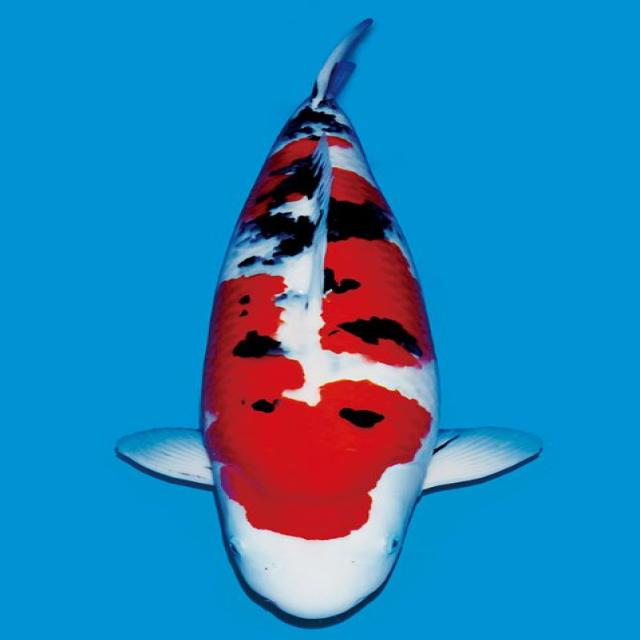Sanke: (114, 16, 544, 629)
